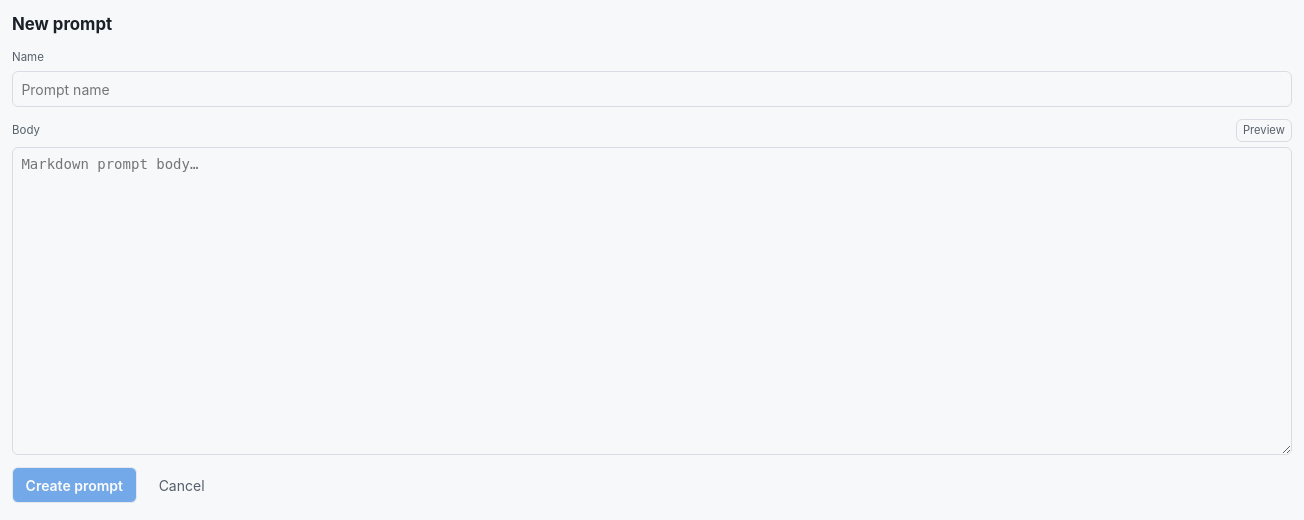
Test case: PromptEditor › toggles the markdown preview of the body
The image size is (1304, 520).
Type "# Heading" into the text box with test id "prompt-body" at (652, 301), box x1=12 y1=147 x2=1292 y2=456
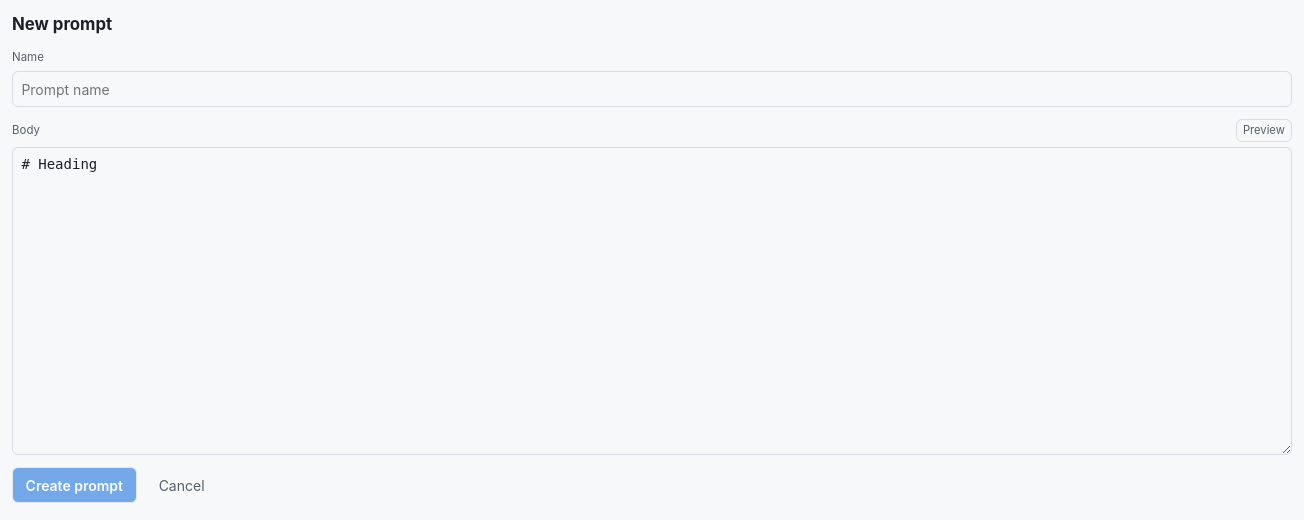
Click the button with test id "preview-toggle" at (1264, 130), box x1=1236 y1=119 x2=1292 y2=142
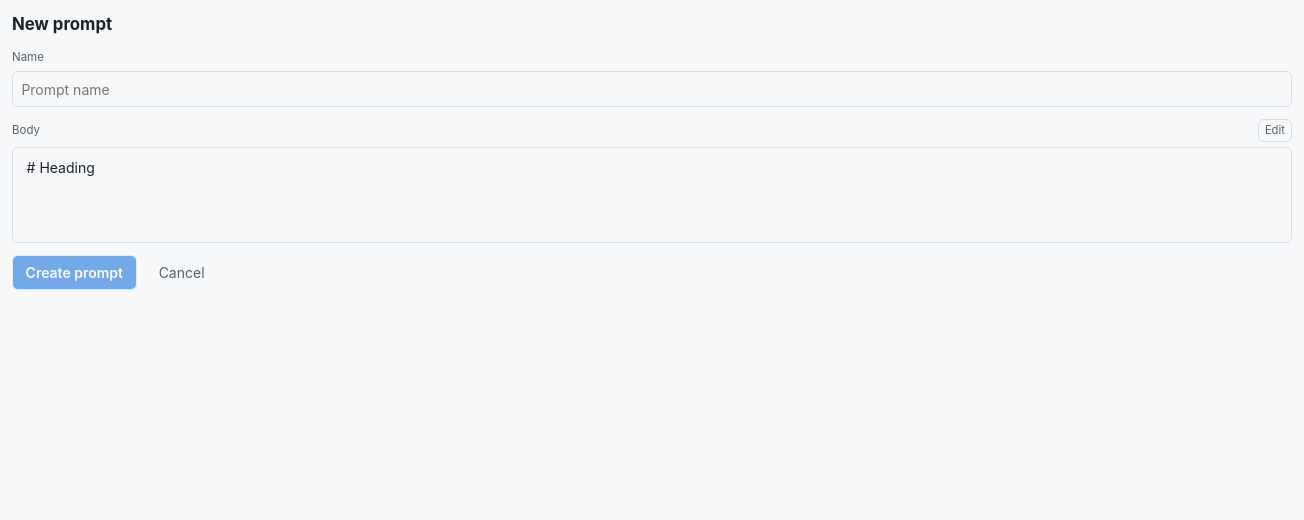
Expected: the text with class "md-stub" reads "# Heading", x1=27 y1=160 x2=95 y2=176
